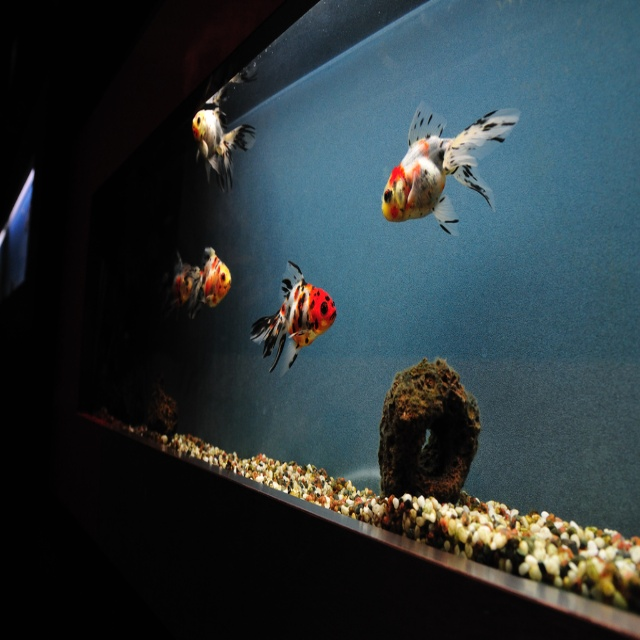Goldfish: (371, 110, 516, 229)
